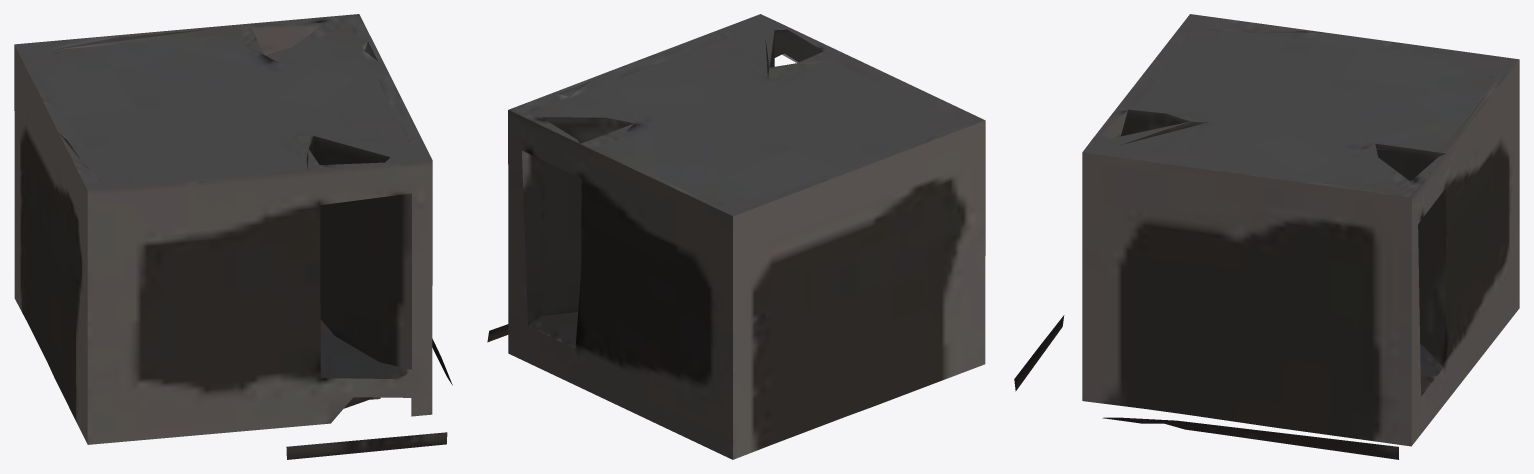
File: t_-1_3.coat.glb
3 views of the same model, side by side, from view 1: azimuth 30°, elevation 25°; view 2: azimuth 150°, elevation 25°; view 3: azimuth 270°, elevation 25° (orthographic). The views are drawn at different scales.
Visible parts, largest first — view 1: far; view 2: far; view 3: far.
Boxes of the visible parts, x1,y1,x2,y2 form: far: (14, 14, 452, 459); far: (487, 14, 985, 459); far: (1014, 14, 1519, 459).
Bounding box in the file's own units: 46.48 × 27.34 × 50.34.
Materials: 1 (1 with a texture image).
